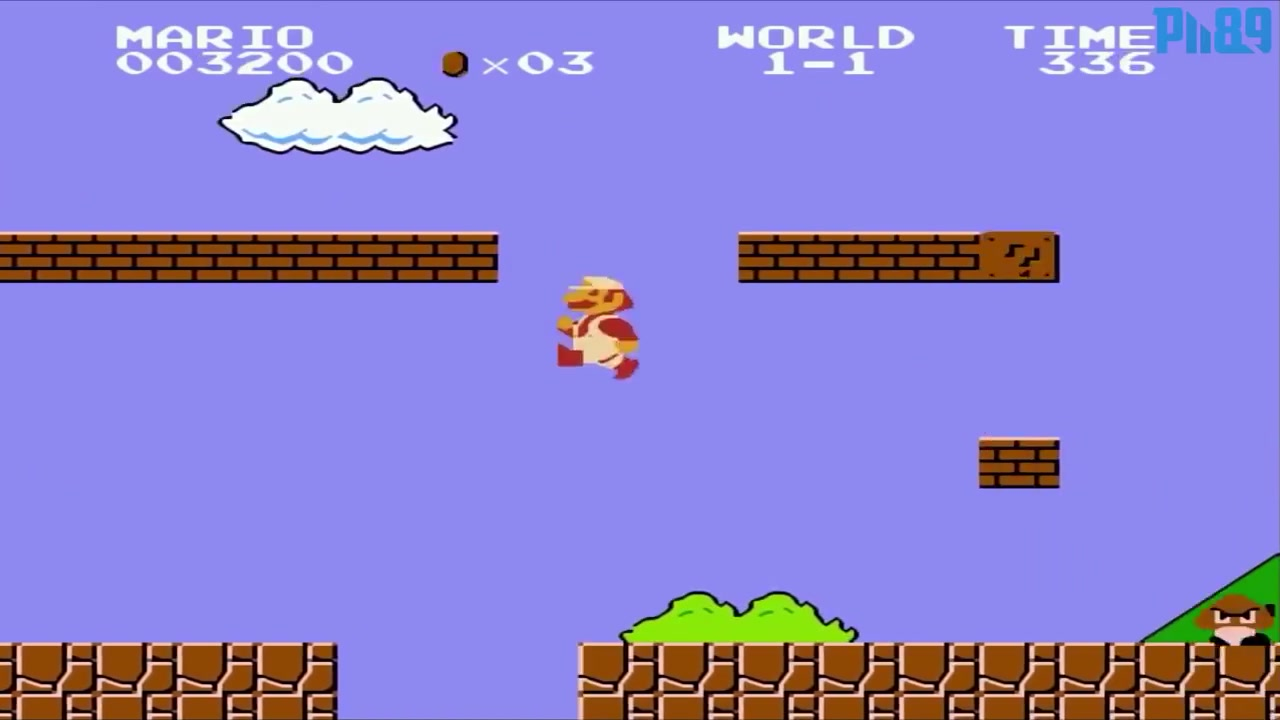mario: (548, 260, 643, 383)
